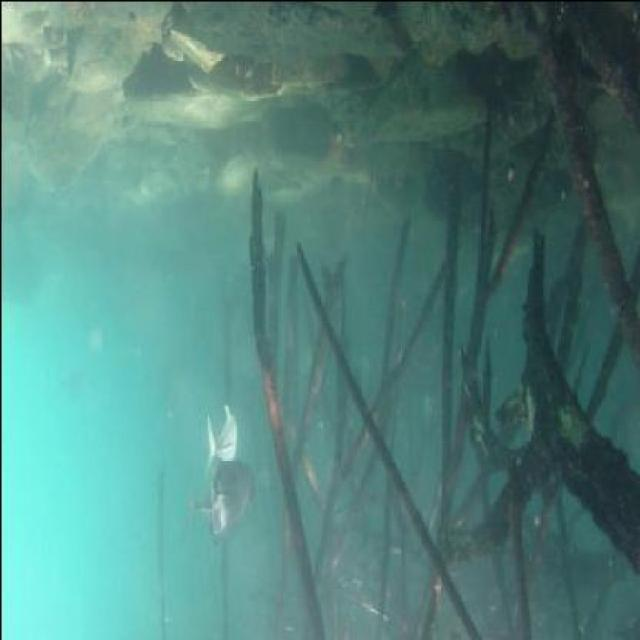Caranx_sexfasciatus_juvenile: (186, 446, 252, 546), (204, 398, 238, 469)
